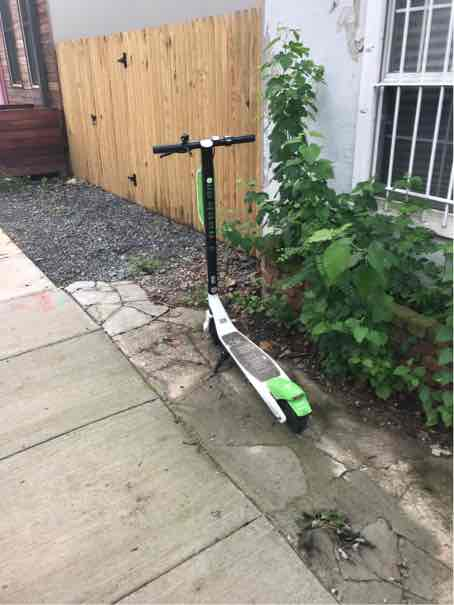scooter: (139, 126, 321, 438)
